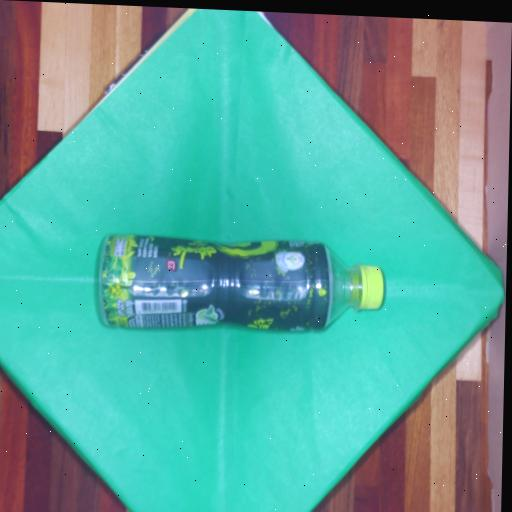bottle: (63, 188, 410, 357)
